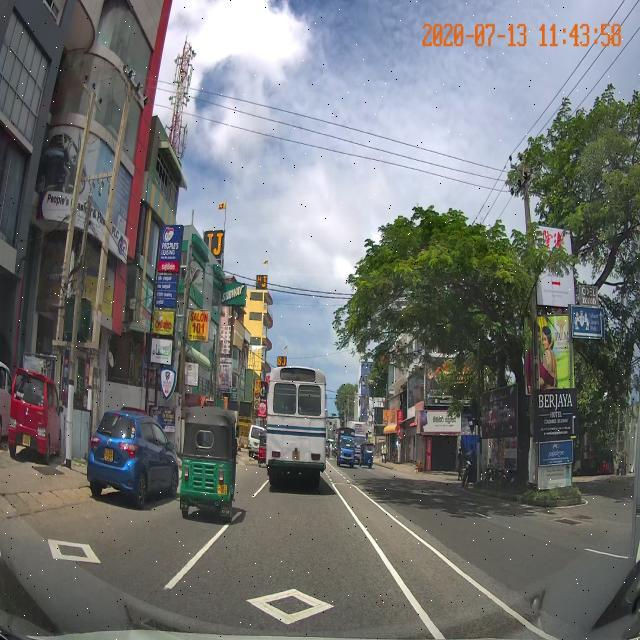diamond: (138, 569, 445, 640)
